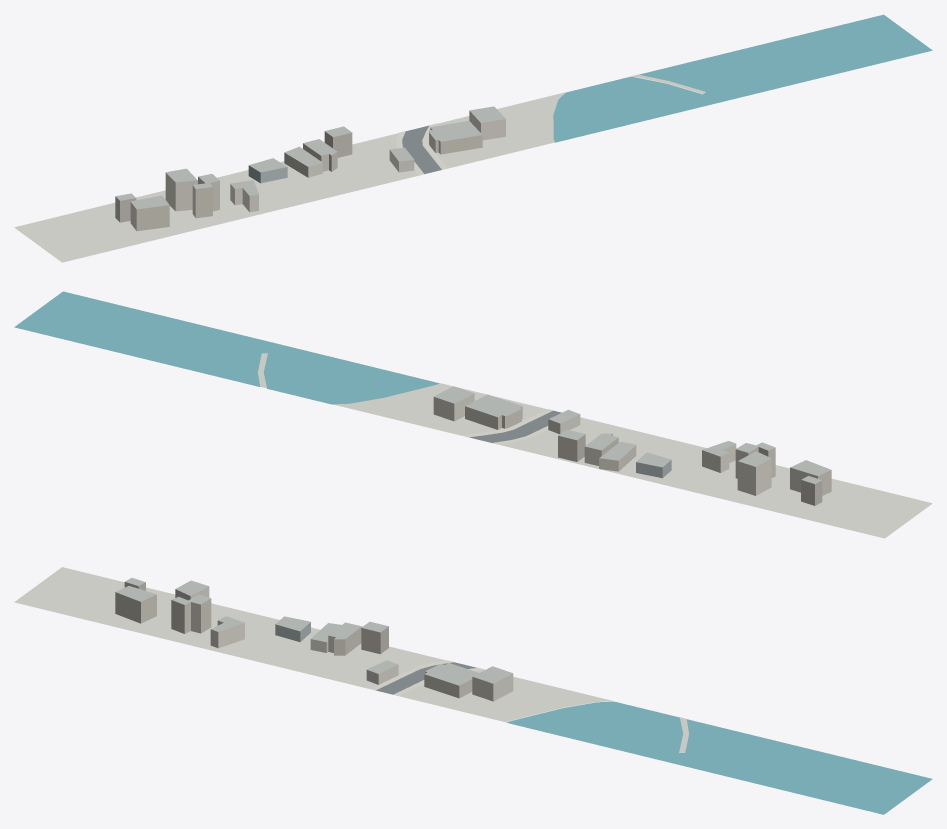
The picture shows the model from 3 angles, top to bottom: view 1: azimuth 30°, elevation 25°; view 2: azimuth 150°, elevation 25°; view 3: azimuth 330°, elevation 25°; orthographic projection.
Parts seen in each view (by area): view 1: city; view 2: city; view 3: city.
Boxes of the visible parts, x1,y1,x2,y2 form: city: (14,14,932,262); city: (14,291,932,538); city: (14,567,932,814).
Bounding box in the file's own units: 500 × 16.18 × 48.88.
